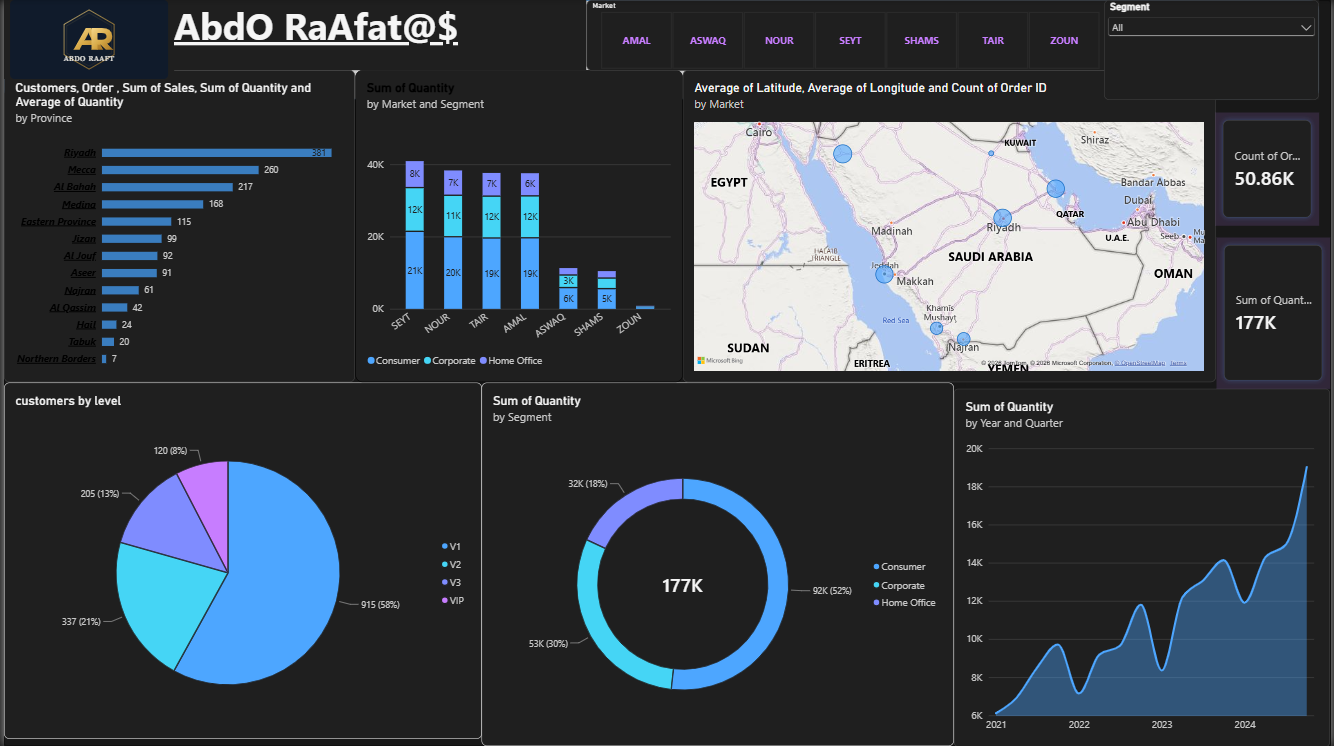

The page's visual inventory and layout, read from the dashboard file:
{"tool":"powerbi","page":{"name":"Page 1","canvas":[1920,1080],"ordinal":0},"visuals":[{"type":"shape","box":[0,0,1904,144],"z":0},{"type":"clusteredBarChart","fields":{"Category":["CustomersAll.Province","CustomersAll.City"],"Y":["CountNonNull(CustomersAll.CustomerID)"]},"box":[0,102,508,452],"z":1000},{"type":"pieChart","title":"customers by level","fields":{"Category":["CustomersAll.Level"],"Y":["CountNonNull(CustomersAll.CustomerID)"]},"box":[0,554,692,516],"z":2000},{"type":"donutChart","fields":{"Category":["Orders (1).Segment"],"Y":["Sum(Orders (1).Quantity)"]},"box":[692,554,684,526],"z":3000},{"type":"columnChart","fields":{"Category":["Orders (1).Market"],"Series":["Orders (1).Segment"],"Y":["Sum(Orders (1).Quantity)"]},"box":[508,102,474,452],"z":4000},{"type":"lineChart","fields":{"Category":["Orders (1).Order Date.Variation.Date Hierarchy.Year","Orders (1).Order Date.Variation.Date Hierarchy.Quarter","Orders (1).Order Date.Variation.Date Hierarchy.Month","Orders (1).Order Date.Variation.Date Hierarchy.Day"],"Y":["Sum(Orders (1).Quantity)"]},"box":[1376,562,544,518],"z":5000},{"type":"map","fields":{"Category":["Sheet1.Market"],"Size":["CountNonNull(Orders (1).Order ID)"],"X":["Avg(Sheet1.Longitude)"],"Y":["Avg(Sheet1.Latitude)"]},"box":[982,102,772,452],"z":6000},{"type":"cardVisual","fields":{"Data":["CountNonNull(Orders (1).Order ID)"]},"box":[1753.8,163.8,150,163.8],"z":7000},{"type":"cardVisual","fields":{"Data":["Sum(Orders (1).Quantity)"]},"box":[1755.4,343.8,164.7,219],"z":8000},{"type":"slicer","fields":{"Values":["Sheet1.Market"]},"box":[844,0,762,102],"z":9000},{"type":"slicer","fields":{"Values":["Orders (1).Segment"]},"box":[1592.5,0,311.3,144.8],"z":10000},{"type":"image","box":[0,0,246.7,114.2],"z":11000},{"type":"textbox","box":[246.1,0,597.2,101.3],"z":12000}]}

Visuals, with their boxes in screenshot pixels (x1, y1, x2, y2), scaled from the page's 1920x1080 canvas onto the 1334x746 screenshot:
shape: (0,0,1323,99)
clusteredBarChart - CustomersAll.Province x CustomersAll.City: (0,70,353,383)
"customers by level" pieChart: (0,383,481,739)
donutChart - Orders (1).Segment x Sum(Orders (1).Quantity): (481,383,956,745)
columnChart - Orders (1).Market x Orders (1).Segment: (353,70,682,383)
lineChart - Orders (1).Order Date.Variation.Date Hierarchy.Year x Orders (1).Order Date.Variation.Date Hierarchy.Quarter: (956,388,1333,745)
map - Sheet1.Market x CountNonNull(Orders (1).Order ID): (682,70,1219,383)
cardVisual - CountNonNull(Orders (1).Order ID): (1219,113,1323,226)
cardVisual - Sum(Orders (1).Quantity): (1220,237,1333,389)
slicer - Sheet1.Market: (586,0,1116,70)
slicer - Orders (1).Segment: (1106,0,1323,100)
image: (0,0,171,79)
textbox: (171,0,586,70)
